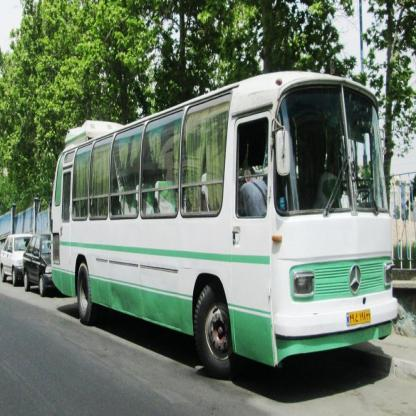Bus: (50, 77, 398, 382)
Car: (21, 230, 61, 294), (1, 233, 31, 286)
